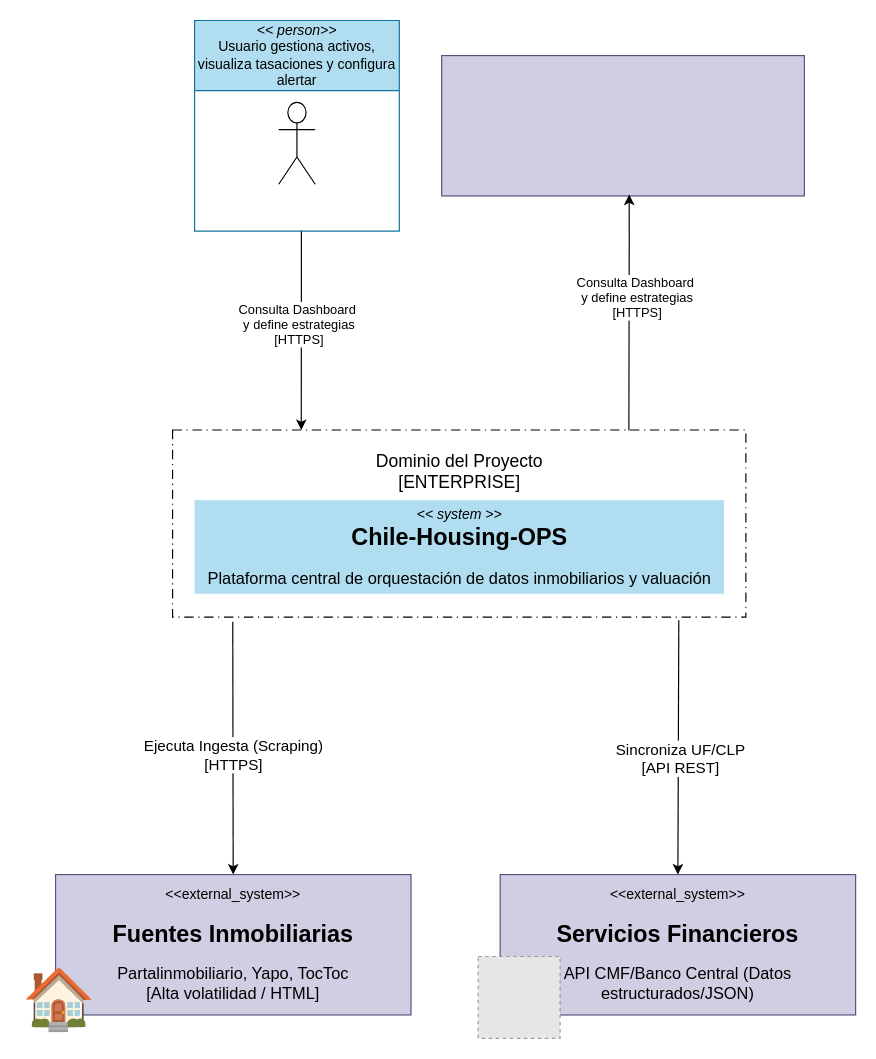
The diagram is 876 pixels wide and 1059 high, and some of its shapes have lost their labels. Grey dashed boxes stand in for pictures. The centre of each missing label's shape, as x and y in pixels:
<<external_system>> Sistemas de Notificaciones Servidor SMTP / Slack Webhooks: the point at 622,125
Operador Inmobiliario: the point at 296,142
